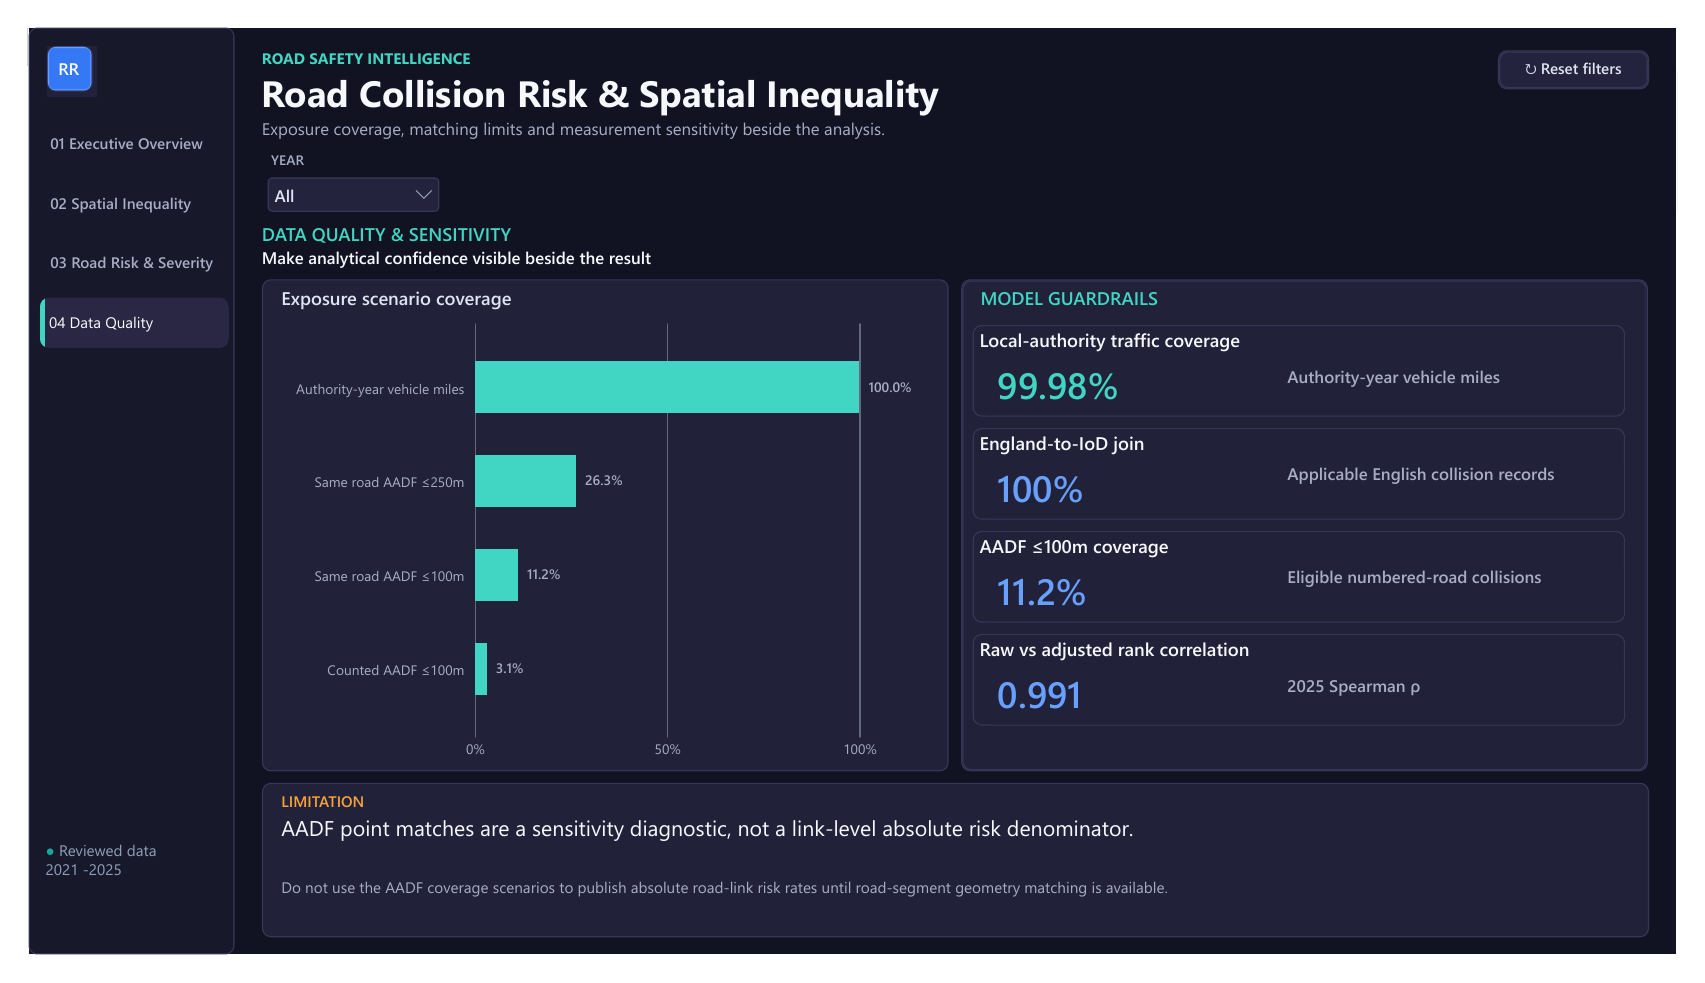

The dashboard page shown, as its layout file describes it:
{"tool":"powerbi","page":{"name":"04 Data Quality","canvas":[1440,810],"ordinal":3},"visuals":[{"type":"shape","box":[0,0,180,810],"z":0},{"type":"shape","box":[16,16,40,40],"z":1000,"group":"g1"},{"type":"clusteredBarChart","title":"Exposure scenario coverage","fields":{"Category":["dim_exposure_scenario.scenario_label"],"Y":["_Measures.Exposure Coverage"]},"box":[204,220,600,430],"z":1000},{"type":"textbox","box":[26,26,33.8,34.6],"z":2000,"group":"g1"},{"type":"pageNavigator","box":[10,80,165,200],"z":2000},{"type":"group","id":"g1","title":"Group 7","box":[16,16,43.8,44.6],"z":3000},{"type":"actionButton","title":"Reset filters","box":[1284,20,132,34],"z":4000},{"type":"textbox","box":[15,710,120,50],"z":5000},{"type":"textbox","box":[204,18,700,85],"z":6000},{"type":"slicer","fields":{"Values":["dim_year.year_label"]},"box":[204,108,160,54],"z":7000},{"type":"textbox","box":[204,170,700,70],"z":8000},{"type":"shape","title":"LIMITATION","box":[204,660,1212,135],"z":10000},{"type":"shape","box":[815,220,600,430],"z":11000},{"type":"cardVisual","title":"Local-authority traffic coverage","fields":{"Data":["_Measures.Local Authority Traffic Coverage"]},"box":[825,260,570,80],"z":12000},{"type":"cardVisual","title":"England-to-IoD join","fields":{"Data":["_Measures.England to IoD Join Coverage"]},"box":[825,350,570,80],"z":13000},{"type":"cardVisual","title":"AADF ≤100m coverage","fields":{"Data":["_Measures.AADF 100m Eligible Coverage"]},"box":[825,440,570,80],"z":14000},{"type":"cardVisual","title":"Raw vs adjusted rank correlation","fields":{"Data":["_Measures.Latest Year Authority Rank Correlation"]},"box":[825,530,570,80],"z":15000},{"type":"textbox","box":[1100,295,200,30],"z":16000},{"type":"textbox","box":[1100,380,250,30],"z":17000},{"type":"textbox","box":[1100,470,250,30],"z":18000},{"type":"textbox","box":[1100,565,200,30],"z":19000}]}

Visuals, with their boxes in screenshot pixels (x1, y1, x2, y2), scaled from the page's 1440x810 canvas onto the 1705x983 screenshot:
shape: crop(0, 0, 213, 982)
shape: crop(19, 19, 66, 68)
"Exposure scenario coverage" clusteredBarChart: crop(242, 267, 952, 789)
textbox: crop(31, 32, 71, 74)
pageNavigator: crop(12, 97, 207, 340)
"Group 7" group: crop(19, 19, 71, 74)
"Reset filters" actionButton: crop(1520, 24, 1677, 66)
textbox: crop(18, 862, 160, 922)
textbox: crop(242, 22, 1070, 125)
slicer - dim_year.year_label: crop(242, 131, 431, 197)
textbox: crop(242, 206, 1070, 291)
"LIMITATION" shape: crop(242, 801, 1677, 965)
shape: crop(965, 267, 1675, 789)
"Local-authority traffic coverage" cardVisual: crop(977, 316, 1652, 413)
"England-to-IoD join" cardVisual: crop(977, 425, 1652, 522)
"AADF ≤100m coverage" cardVisual: crop(977, 534, 1652, 631)
"Raw vs adjusted rank correlation" cardVisual: crop(977, 643, 1652, 740)
textbox: crop(1302, 358, 1539, 394)
textbox: crop(1302, 461, 1598, 498)
textbox: crop(1302, 570, 1598, 607)
textbox: crop(1302, 686, 1539, 722)
